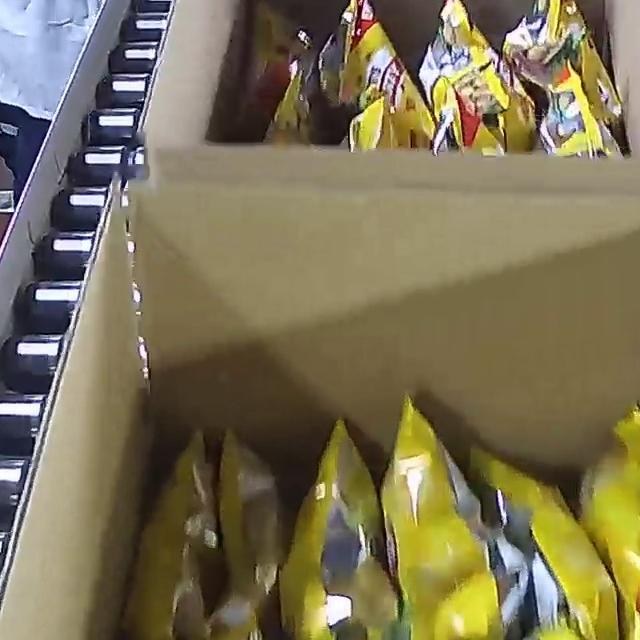salted: (95, 392, 640, 640), (253, 0, 607, 167)
